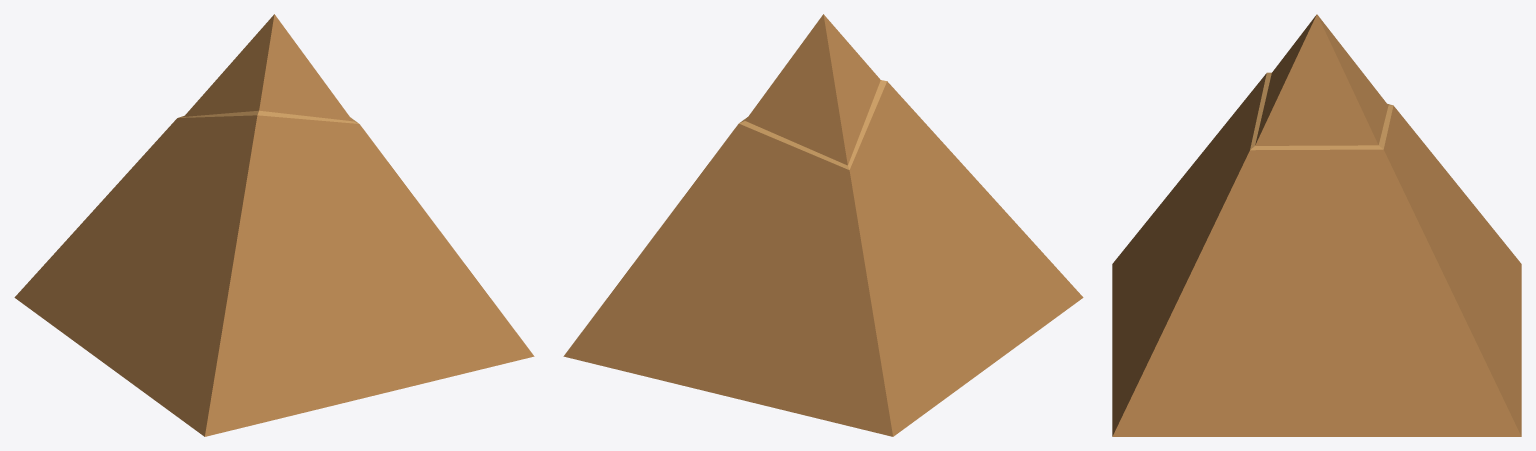
The model's file is Model_Desert_3x3B.fbx.
3 renders of one model, left to right at view 1: azimuth 30°, elevation 25°; view 2: azimuth 150°, elevation 25°; view 3: azimuth 270°, elevation 25°, orthographic. The views are drawn at different scales.
Parts seen in each view (by area): view 1: Model_Frost_3x3B; view 2: Model_Frost_3x3B; view 3: Model_Frost_3x3B.
Boxes of the visible parts, x1,y1,x2,y2 form: Model_Frost_3x3B: (14, 14, 534, 436); Model_Frost_3x3B: (563, 14, 1083, 436); Model_Frost_3x3B: (1112, 14, 1521, 436).
Bounding box in the file's own units: 597 × 542 × 597.
Materials: 1 (1 with a texture image).
